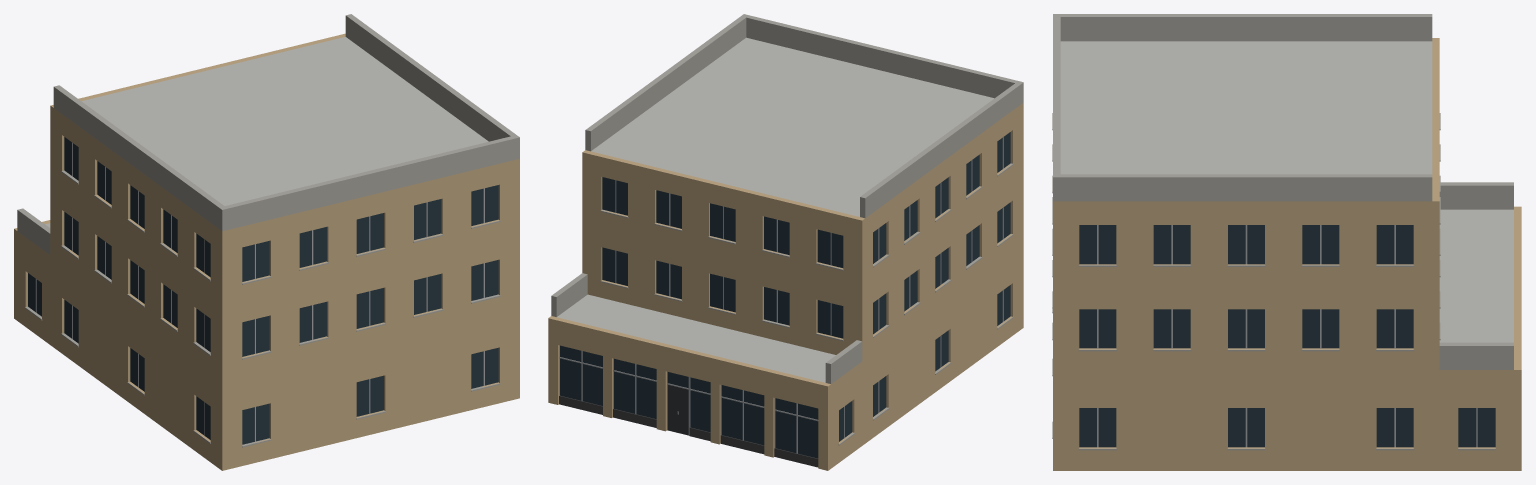
The model's file is bld_t3_midrise.glb.
3 renders of one model, left to right at view 1: azimuth 30°, elevation 25°; view 2: azimuth 150°, elevation 25°; view 3: azimuth 270°, elevation 25°, orthographic. The views are drawn at different scales.
Visible parts, largest first — view 1: bld_t3_midrise-col; view 2: bld_t3_midrise-col; view 3: bld_t3_midrise-col.
Part boxes in pixels (left/top/right/bottom): bld_t3_midrise-col: left=14, top=14, right=519, bottom=470; bld_t3_midrise-col: left=548, top=14, right=1023, bottom=470; bld_t3_midrise-col: left=1052, top=14, right=1521, bottom=470.
Size of the model in its own units: 15.66 by 13.07 by 18.93.
